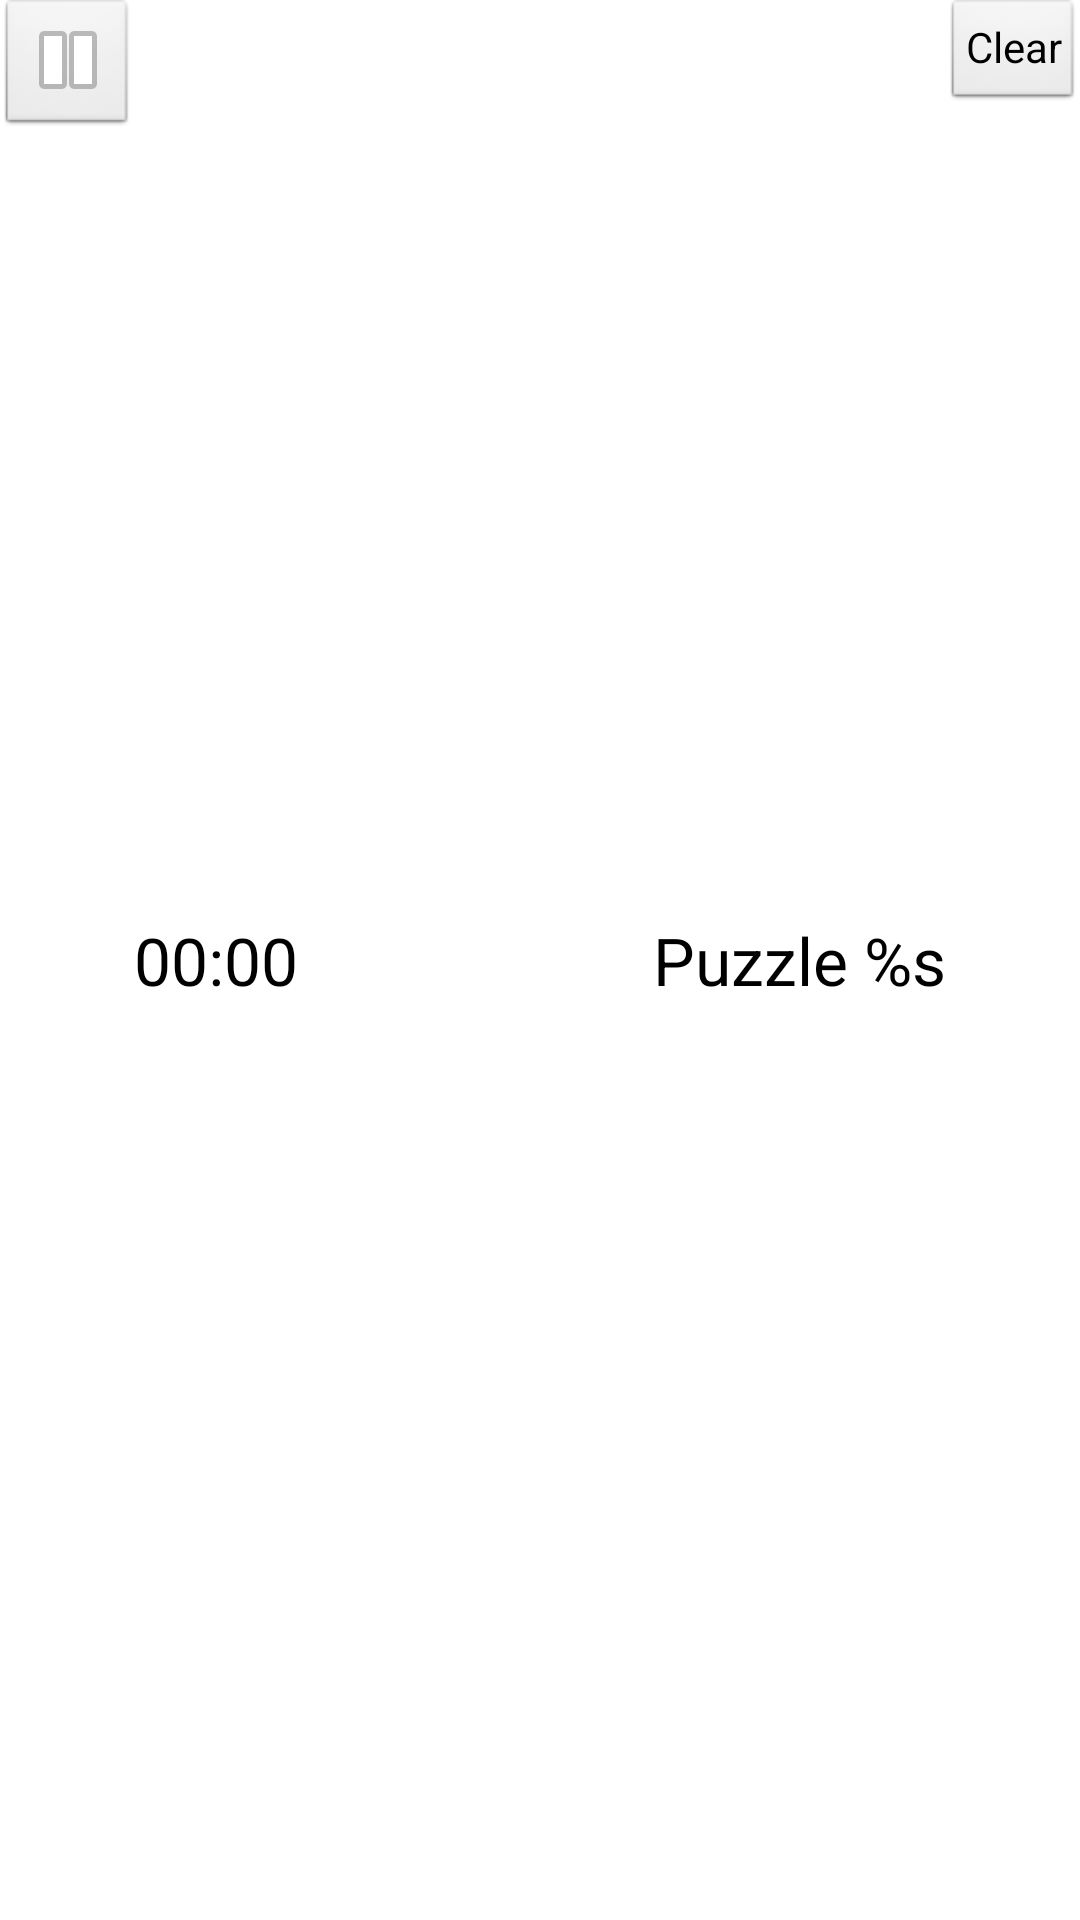

Screen size 1080px×1920px. Icon name, then its center in pixels as point (x, y):
Pause: point (66, 62)
